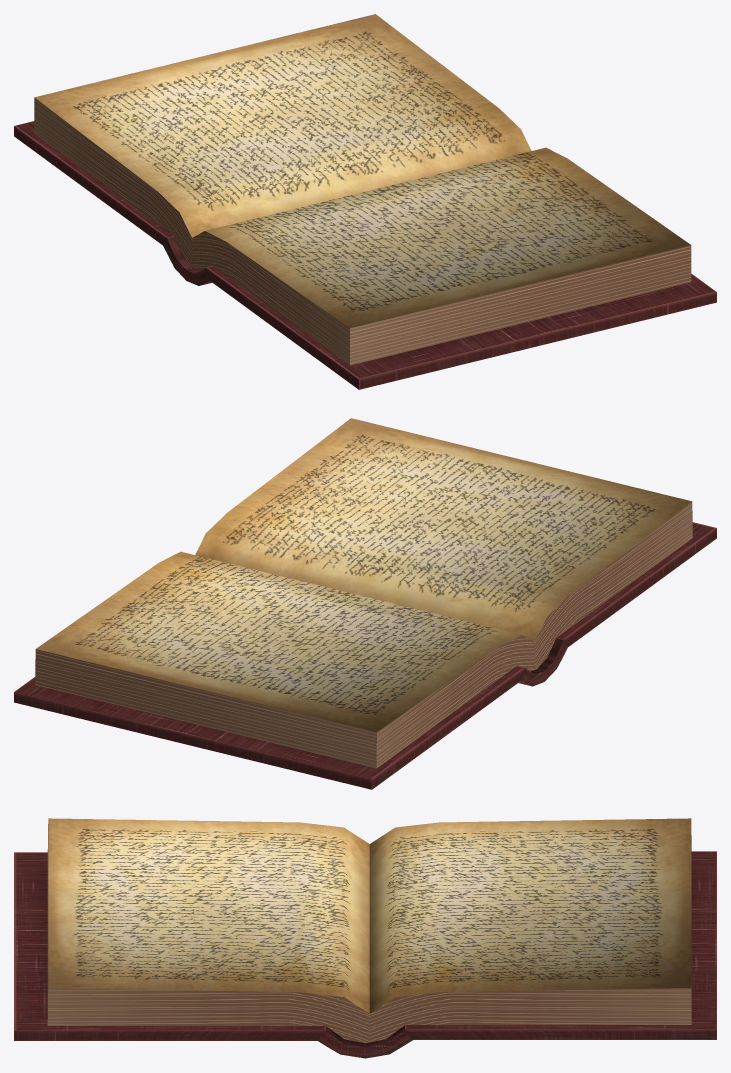
Rendered from Book-open 1.fbx.
3 views of the same model, one above another, from view 1: azimuth 30°, elevation 25°; view 2: azimuth 150°, elevation 25°; view 3: azimuth 270°, elevation 25° (orthographic).
Visible parts, largest first — view 1: SM_Book_open.001; view 2: SM_Book_open.001; view 3: SM_Book_open.001.
Boxes of the visible parts, x1,y1,x2,y2 form: SM_Book_open.001: (14, 14, 716, 389); SM_Book_open.001: (14, 418, 716, 789); SM_Book_open.001: (14, 818, 716, 1058).
Size of the model in its own units: 65.63 by 11.33 by 110.
